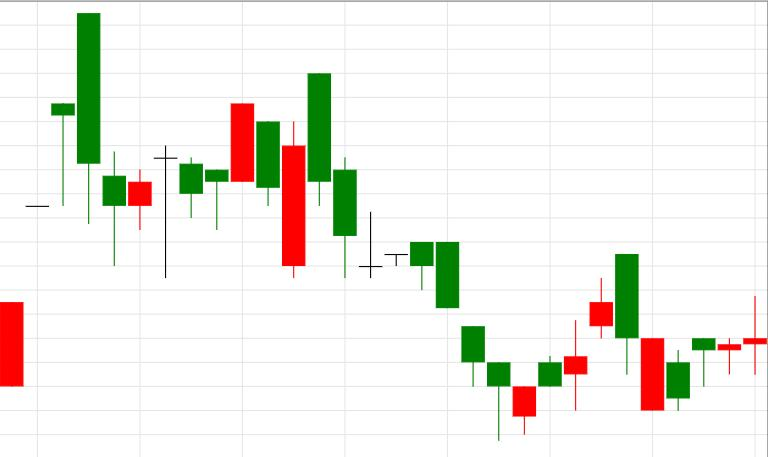bearish_engulfing_fall: (512, 254, 639, 434)
hammer_rise: (385, 241, 510, 441)
